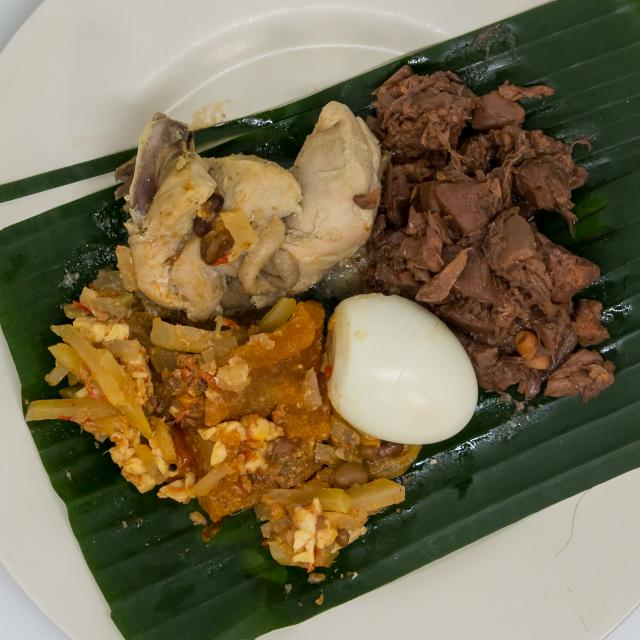Gudeg-Jogja: (23, 52, 624, 591)
